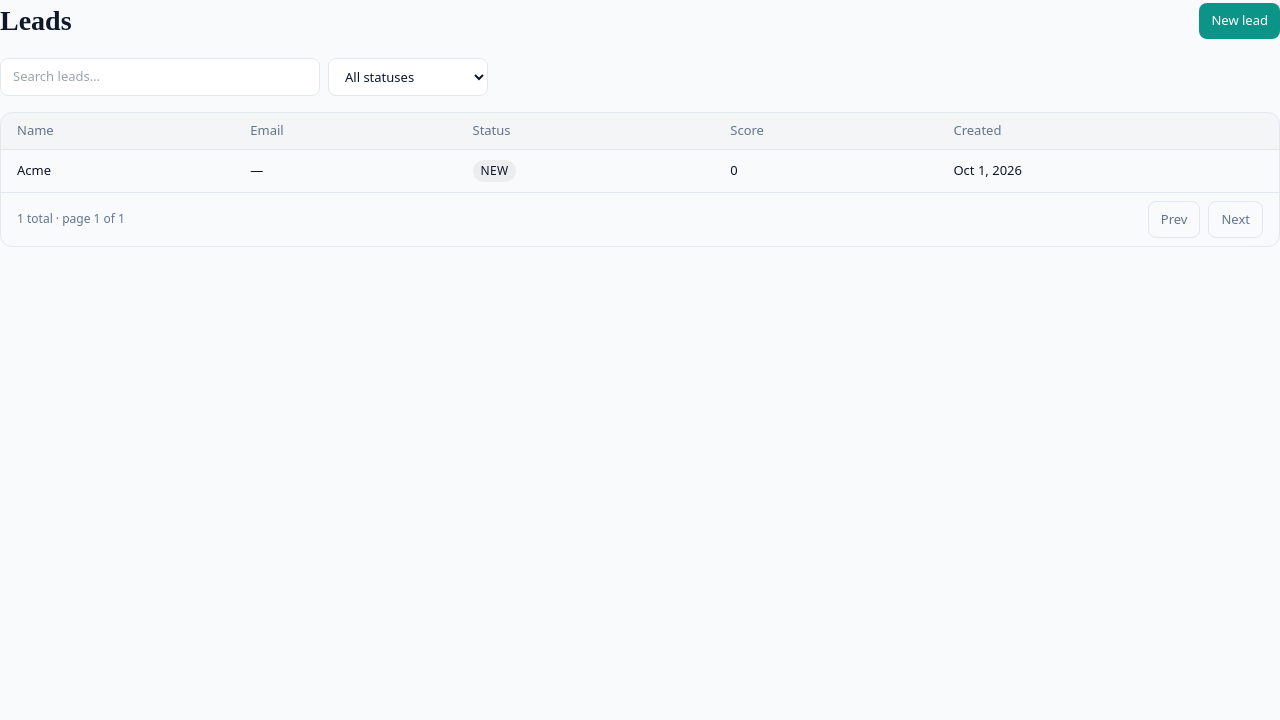
Scenario: Leads when the API answers 400 › convert: shows the error in the dialog and the lead stays unconverted
Click the cell "Acme" at [34, 170], box top-left (1, 149), bottom-right (234, 192)
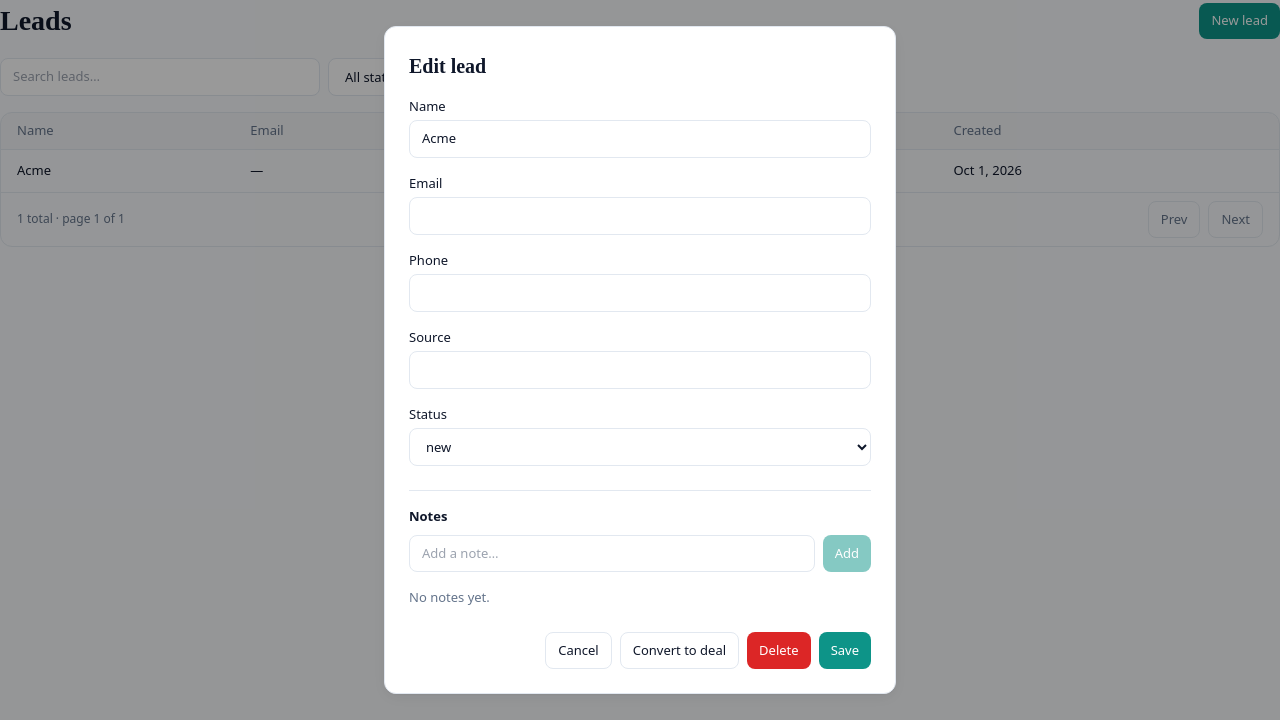
Click the button "Convert to deal" at [679, 651], box top-left (620, 632), bottom-right (739, 669)
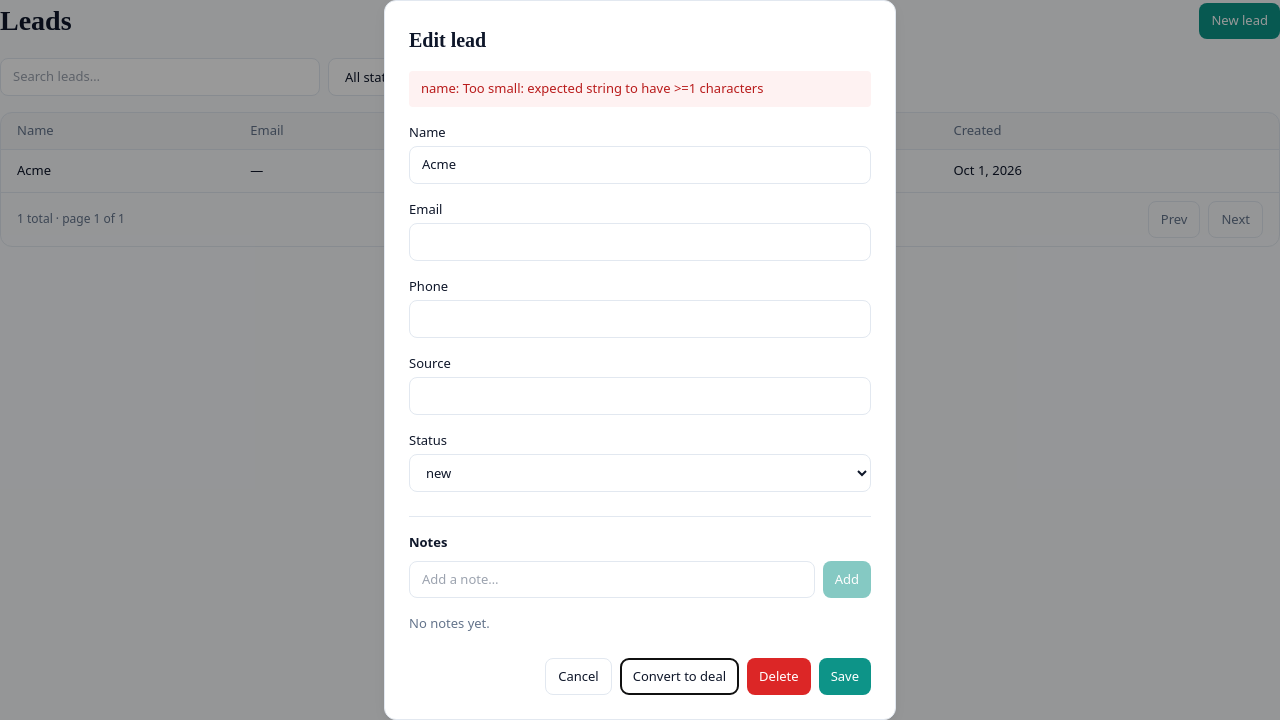
expect the row "Acme — new 0 Oct 1, 2026" is shown: met, box top-left (1, 149), bottom-right (1279, 192)
expect the message reads "name: Too small: expected string to have >=1 characters": met, box top-left (421, 79), bottom-right (763, 97)
